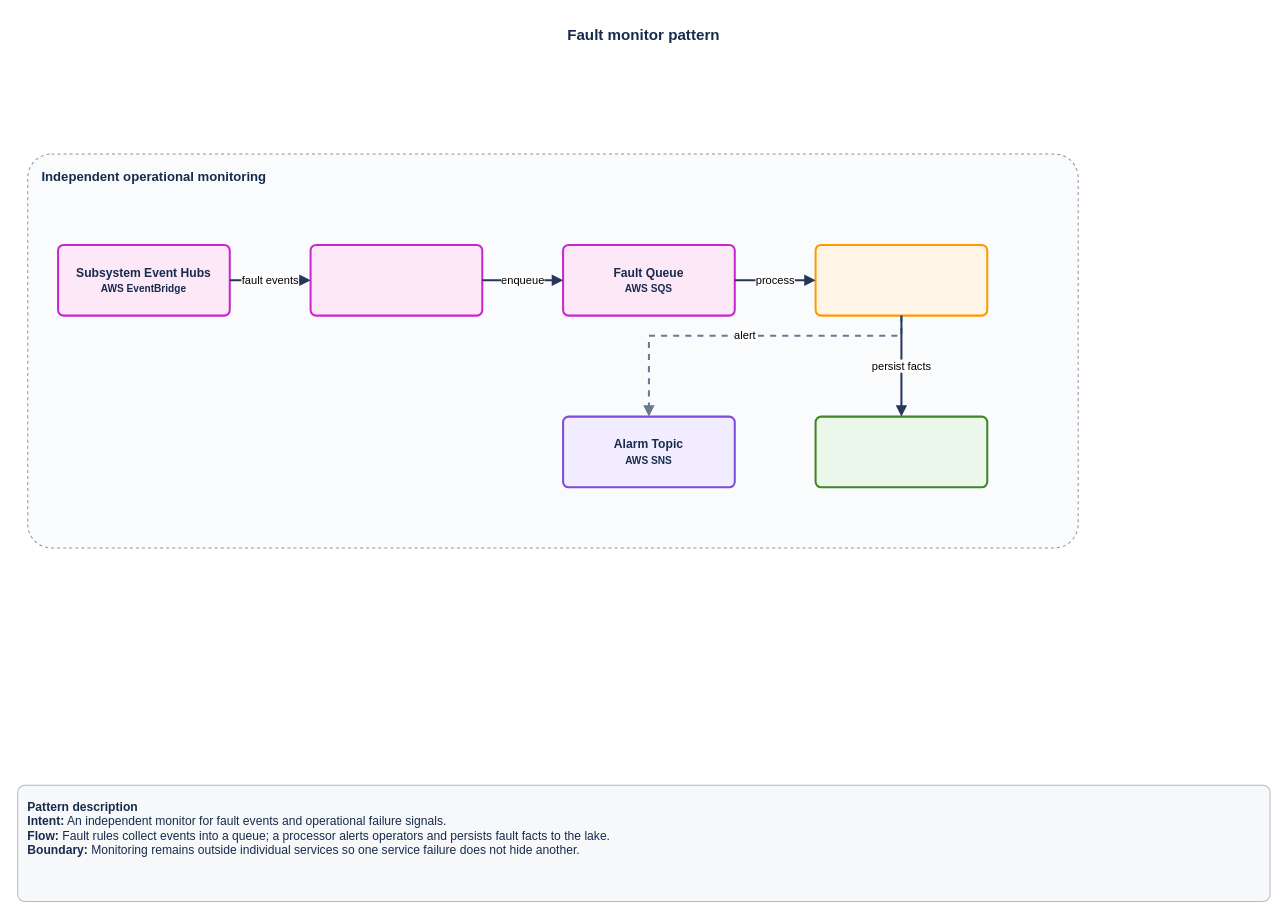
The diagram is 1288 pixels wide and 919 high, and some of its shapes have lost their labels. Each missing label, with the centre of its shape:
Fault Lake AWS S3: the point at 901,451
Fault Processor AWS Lambda: the point at 901,279
Fault Rules EventBridge Rules: the point at 396,279
